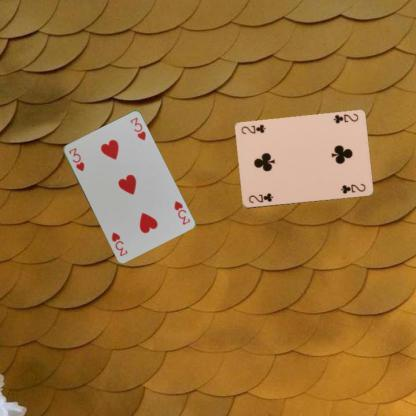2c: (330, 111, 360, 125), (246, 190, 274, 204)
3h: (66, 145, 86, 173), (171, 198, 191, 226)
